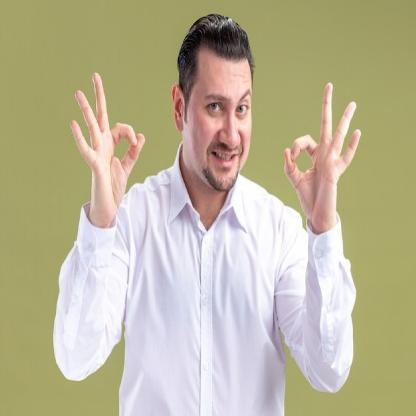ok: (280, 78, 362, 226), (70, 68, 146, 222)
